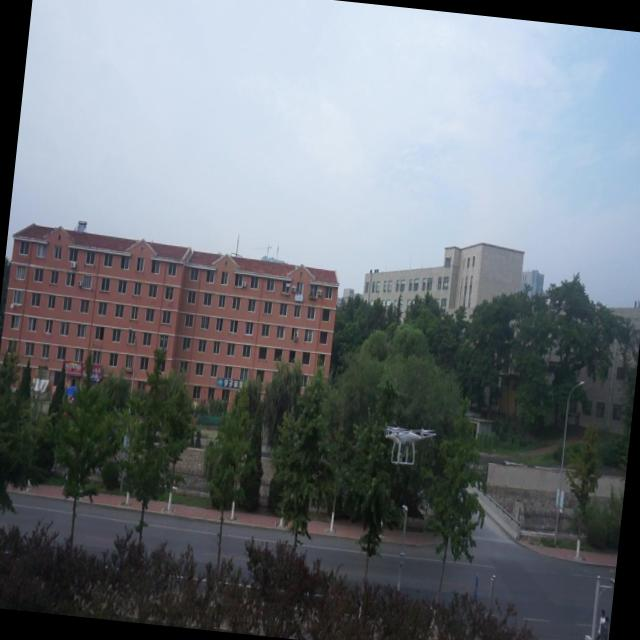drone: (377, 416, 436, 473)
